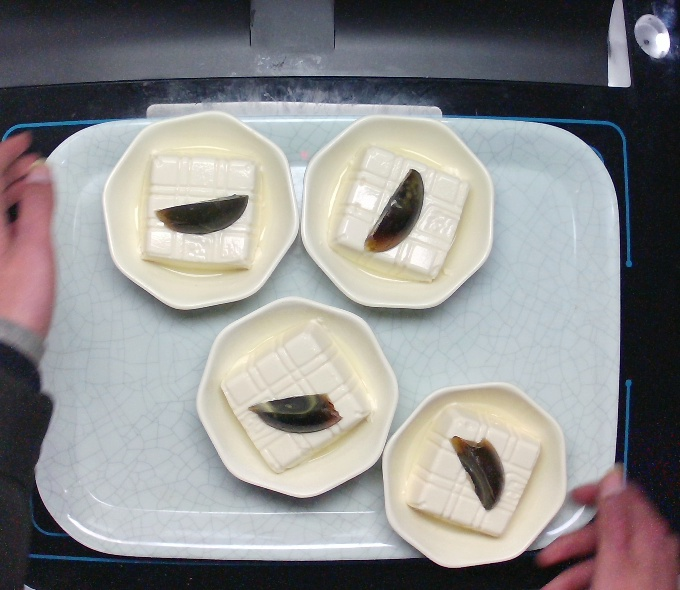wcq-PiDanDouFu: (216, 322, 375, 484), (324, 145, 475, 292), (402, 404, 544, 541), (134, 144, 267, 276)
